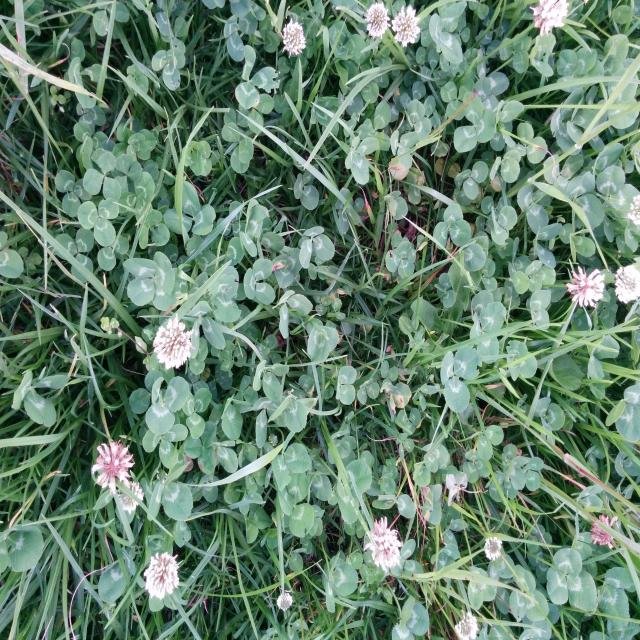Four Leaf Clover: (123, 251, 181, 311)
